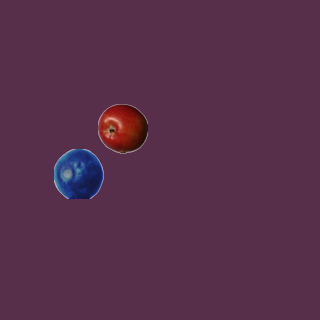Apple Braeburn: (97, 103, 147, 153)
Huckleberry: (53, 148, 103, 198)
